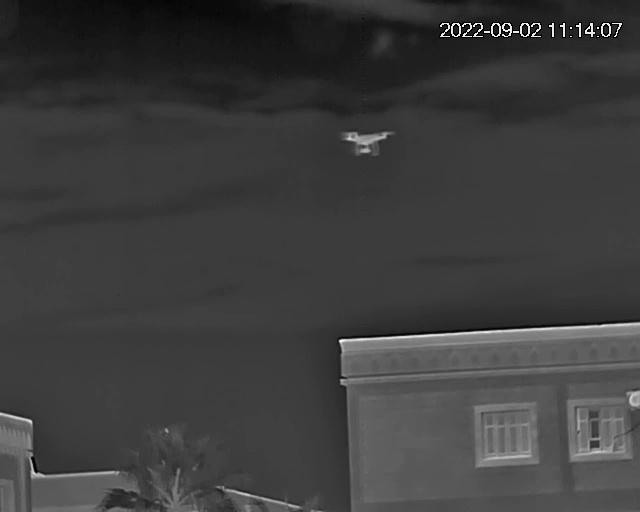DJI-Phantom: (337, 121, 401, 163)
